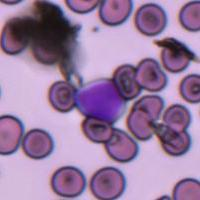L: (74, 78, 125, 122)
